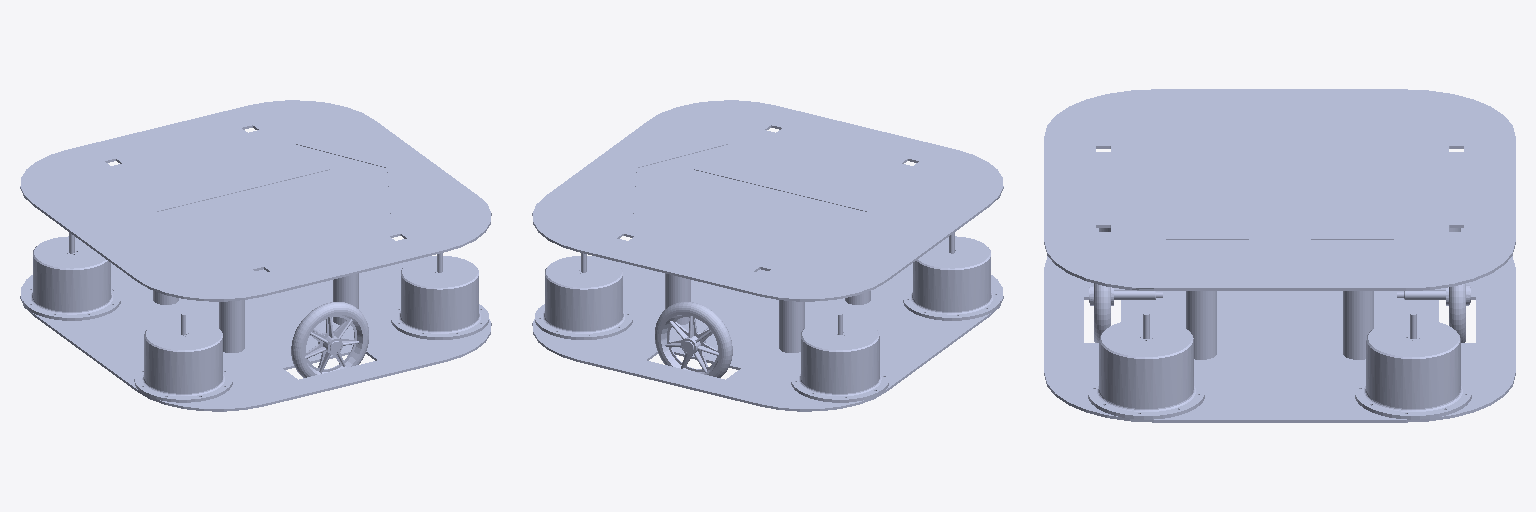
robot.urdf — delivery_robot_urdf2:
<?xml version="1.0" encoding="utf-8"?>
<!-- This URDF was automatically created by SolidWorks to URDF Exporter! Originally created by [author] ([email redacted]) 
     Commit Version: 1.6.0-4-g7f85cfe  Build Version: 1.6.7995.38578
     For more information, please see http://wiki.ros.org/sw_urdf_exporter -->
<robot
  name="delivery_robot_urdf2">
  <!-- add virtual joint between base_link and base_footprint-->
  <link
    name="base_footprint" />
  <joint
    name="base_footprint_joint"
    type="fixed">
    <origin
      xyz="0 0 0"
      rpy="0 0 0" />
    <parent
      link="base_footprint" />
    <child
      link="base_link" />
  </joint>
  <link
    name="base_link">
    <inertial>
      <origin
        xyz="-0.00049444 1.0033E-14 0.11158"
        rpy="0 0 0" />
      <mass
        value="4.1401" />
      <inertia
        ixx="0.07173"
        ixy="-1.0013E-10"
        ixz="3.1516E-06"
        iyy="0.070159"
        iyz="1.5491E-17"
        izz="0.13789" />
    </inertial>
    <visual>
      <origin
        xyz="0 0 0"
        rpy="0 0 0" />
      <geometry>
        <mesh
          filename="package://delivery_robot_urdf2/meshes/base_link.STL" />
      </geometry>
      <material
        name="">
        <color
          rgba="0.79216 0.81961 0.93333 1" />
      </material>
    </visual>
    <collision>
      <origin
        xyz="0 0 0"
        rpy="0 0 0" />
      <geometry>
        <mesh
          filename="package://delivery_robot_urdf2/meshes/base_link.STL" />
      </geometry>
    </collision>
  </link>
  <link
    name="right_wheel">
    <inertial>
      <origin
        xyz="-2.2582E-16 -6.9389E-17 0.02815"
        rpy="0 0 0" />
      <mass
        value="0.15849" />
      <inertia
        ixx="0.00022462"
        ixy="1.3198E-19"
        ixz="-2.3706E-20"
        iyy="0.00022462"
        iyz="-4.7562E-20"
        izz="0.00043866" />
    </inertial>
    <visual>
      <origin
        xyz="0 0 0"
        rpy="0 0 0" />
      <geometry>
        <mesh
          filename="package://delivery_robot_urdf2/meshes/right_wheel.STL" />
      </geometry>
      <material
        name="">
        <color
          rgba="0.79216 0.81961 0.93333 1" />
      </material>
    </visual>
    <collision>
      <origin
        xyz="0 0 0"
        rpy="0 0 0" />
      <geometry>
        <mesh
          filename="package://delivery_robot_urdf2/meshes/right_wheel.STL" />
      </geometry>
    </collision>
  </link>
  <joint
    name="right_wheel_joint"
    type="continuous">
    <origin
      xyz="0 -0.197748 0.0670500000000001"
      rpy="1.5707963267949 0 0" />
    <parent
      link="base_link" />
    <child
      link="right_wheel" />
    <axis
      xyz="0 0 -1" />
  </joint>
  <link
    name="left_wheel">
    <inertial>
      <origin
        xyz="-2.2906E-16 9.7145E-17 0.02815"
        rpy="0 0 0" />
      <mass
        value="0.15849" />
      <inertia
        ixx="0.00022462"
        ixy="1.8208E-19"
        ixz="2.0093E-20"
        iyy="0.00022462"
        iyz="5.4464E-20"
        izz="0.00043866" />
    </inertial>
    <visual>
      <origin
        xyz="0 0 0"
        rpy="0 0 0" />
      <geometry>
        <mesh
          filename="package://delivery_robot_urdf2/meshes/left_wheel.STL" />
      </geometry>
      <material
        name="">
        <color
          rgba="0.79216 0.81961 0.93333 1" />
      </material>
    </visual>
    <collision>
      <origin
        xyz="0 0 0"
        rpy="0 0 0" />
      <geometry>
        <mesh
          filename="package://delivery_robot_urdf2/meshes/left_wheel.STL" />
      </geometry>
    </collision>
  </link>
  <joint
    name="left_wheel_joint"
    type="continuous">
    <origin
      xyz="0 0.197748 0.0670500000000001"
      rpy="-1.5707963267949 0 0" />
    <parent
      link="base_link" />
    <child
      link="left_wheel" />
    <axis
      xyz="0 0 1" />
  </joint>

  <link name="laser">
    <visual>
      <origin xyz="0 0 0.0" rpy="0 0 0"/>
      <geometry>
        <mesh filename="package://delivery_robot_urdf2/meshes/lds.stl" scale="0.001 0.001 0.001"/>
      </geometry>
    </visual>

    <collision>
      <origin xyz="0.015 0 -0.0065" rpy="0 0 0"/>
      <geometry>
        <cylinder length="0.0315" radius="0.055"/>
      </geometry>
    </collision>

    <inertial>
      <mass value="0.114" />
      <origin xyz="0 0 0" />
      <inertia ixx="0.001" ixy="0.0" ixz="0.0"
               iyy="0.001" iyz="0.0"
               izz="0.001" />
    </inertial>
  </link>
  <joint name="laser_joint" type="fixed">
    <axis xyz="0 1 0" />
    <origin xyz="0.0 0 0.244" rpy="0 0 0" />
    <parent link="base_link" />
    <child link="laser" />
  </joint>

  <gazebo reference="laser">
    <material>Gazebo/FlatBlack</material>
    <sensor type="ray" name="lds_lfcd_sensor">
      <pose>0 0 0 0 0 0</pose>
      <visualize>false</visualize>
      <update_rate>5</update_rate>
      <ray>
        <scan>
          <horizontal>
            <samples>360</samples>
            <resolution>1</resolution>
            <min_angle>0.0</min_angle>
            <max_angle>6.28319</max_angle>
          </horizontal>
        </scan>
        <range>
          <min>0.120</min>
          <max>10.0</max>
          <resolution>0.015</resolution>
        </range>
        <noise>
          <type>gaussian</type>
          <mean>0.0</mean>
          <stddev>0.01</stddev>
        </noise>
      </ray>
      <plugin name="gazebo_ros_lds_lfcd_controller" filename="libgazebo_ros_laser.so">
        <topicName>base_scan</topicName>
        <frameName>laser</frameName>
      </plugin>
    </sensor>
  </gazebo>

  <link name="imu_link"/>

  <joint name="imu_joint" type="fixed">
    <origin xyz="0 0 0.1" rpy="0 0 0"/>
    <parent link="base_link"/>
    <child link="imu_link"/>
  </joint>

  <gazebo>
    <plugin name="gazebo_ros_control" filename="libgazebo_ros_control.so">
    </plugin>
  </gazebo>

  <transmission name="tran1">
    <type>transmission_interface/SimpleTransmission</type>
    <joint name="right_wheel_joint">
      <hardwareInterface>hardware_interface/VelocityJointInterface</hardwareInterface>
    </joint>
    <actuator name="motor1">
      <!-- <hardwareInterface>hardware_interface/VelocityJointInterface</hardwareInterface> -->
      <mechanicalReduction>1</mechanicalReduction>
    </actuator>
  </transmission>

  <transmission name="tran2">
    <type>transmission_interface/SimpleTransmission</type>
    <joint name="left_wheel_joint">
      <hardwareInterface>hardware_interface/VelocityJointInterface</hardwareInterface>
    </joint>
    <actuator name="motor2">
      <!-- <hardwareInterface>hardware_interface/VelocityJointInterface</hardwareInterface> -->
      <mechanicalReduction>1</mechanicalReduction>
    </actuator>
  </transmission>

  <!-- add differential drive plugin -->
  <!-- <gazebo>
    <plugin name="differential_drive_controller" filename="libgazebo_ros_diff_drive.so">
      <leftJoint>left_wheel_joint</leftJoint>
      <rightJoint>right_wheel_joint</rightJoint>
      <wheelSeparation>0.45</wheelSeparation>
      <wheelDiameter>0.065</wheelDiameter>
      <torque>5.0</torque>
      <commandTopic>cmd_vel</commandTopic>
      <odometryTopic>odom</odometryTopic>
      <odometryFrame>odom</odometryFrame>
      <robotBaseFrame>base_link</robotBaseFrame>
      <publishWheelTF>true</publishWheelTF>
      <publishTf>true</publishTf>
      <publishOdomTF>true</publishOdomTF>
      <legacyMode>false</legacyMode>
      <updateRate>100.0</updateRate>
      <publishWheelJointState>false</publishWheelJointState>
    </plugin>
  </gazebo> -->

</robot>

--- Facts derived from the render (not from the file) ---
The picture shows the robot from 3 angles, left to right: view 1: azimuth 30°, elevation 25°; view 2: azimuth 150°, elevation 25°; view 3: azimuth 270°, elevation 25°; orthographic projection.
Robot: delivery_robot_urdf2 — 6 links, 5 joints (2 continuous, 3 fixed); root link base_footprint; default pose: all joints at 0.
Links seen in each view (by area): view 1: base_link, right_wheel; view 2: base_link, left_wheel; view 3: base_link, right_wheel, left_wheel.
Link boxes in pixels (box(x1,y1,x2,y2)): base_link: box(20, 100, 491, 411); right_wheel: box(291, 302, 368, 377); base_link: box(532, 100, 1003, 411); left_wheel: box(655, 302, 732, 377); base_link: box(1044, 89, 1515, 422); right_wheel: box(1090, 283, 1113, 342); left_wheel: box(1446, 283, 1469, 342).
Bounding box of the posed robot: 0.6 × 0.6 × 0.2162 m (x, y, z).
3 mesh visuals loaded from 4 distinct referenced files (3 binary STL); not drawn: 1 (reference not matched to a file when rendering).
